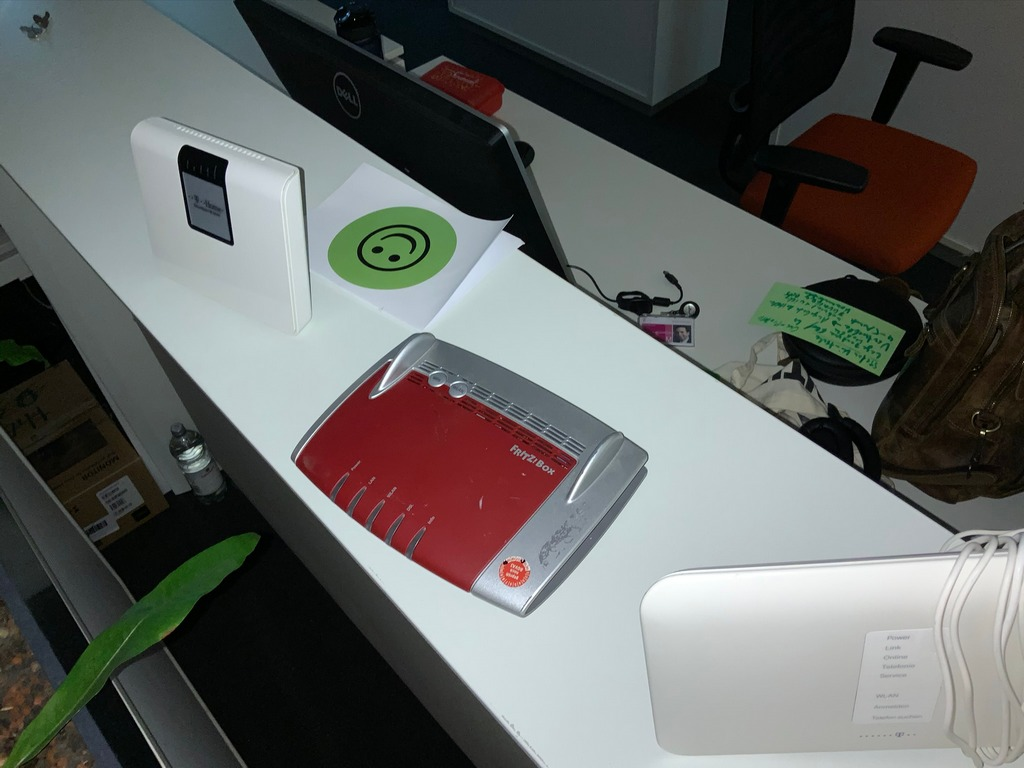Router2: (130, 118, 314, 337)
router: (641, 555, 1024, 755)
router3: (286, 333, 654, 617)
